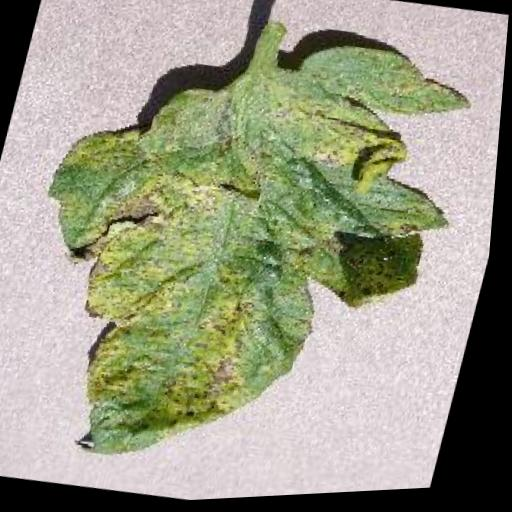Septoria: (0, 0, 496, 511)
